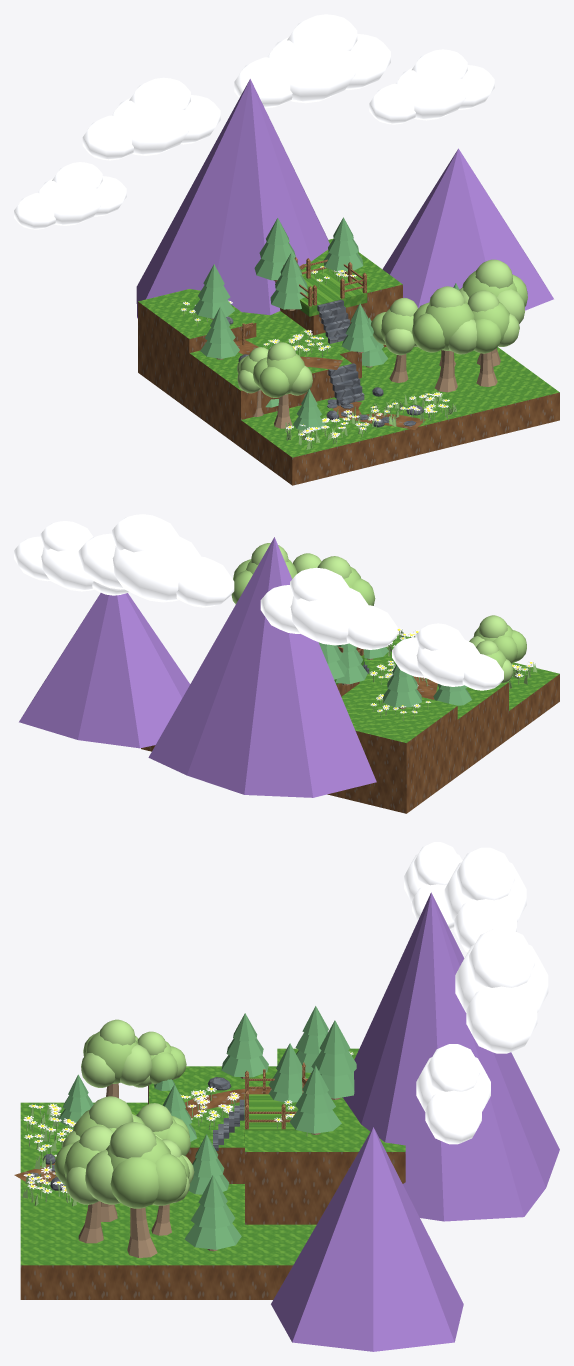
The model's file is map_25d.glb.
3 renders of one model, top to bottom at view 1: azimuth 30°, elevation 25°; view 2: azimuth 150°, elevation 25°; view 3: azimuth 270°, elevation 25°, orthographic. The views are drawn at different scales.
Visible parts, largest first — view 1: SM_Terrain_Chunk, SM_Mountains_Background, SM_Cloud_02, SM_Cloud_01, SM_Cloud_04, SM_Cloud_03, SM_Tree_Deciduous_01, SM_Tree_Deciduous_06, SM_Tree_Deciduous_03, SM_Tree_Deciduous_05, SM_Tree_Deciduous_02, SM_Tier2_Pavers (+13 smaller); view 2: SM_Mountains_Background, SM_Terrain_Chunk, SM_Cloud_02, SM_Cloud_01, SM_Cloud_03, SM_Cloud_04, SM_Tree_Deciduous_06, SM_Tree_Pine_04, SM_Tree_Deciduous_05, SM_Tree_Deciduous_01, SM_Tree_Pine_05, SM_Tree_Pine_03 (+3 smaller); view 3: SM_Mountains_Background, SM_Terrain_Chunk, SM_Cloud_02, SM_Tree_Deciduous_05, SM_Cloud_01, SM_Cloud_04, SM_Tree_Deciduous_06, SM_Tree_Deciduous_03, SM_Cloud_03, SM_Tree_Pine_10, SM_Tree_Pine_06, SM_Tree_Pine_07 (+14 smaller).
Part boxes in pixels (box(x1,y1,x2,y2)): SM_Terrain_Chunk: box(138, 239, 559, 485); SM_Mountains_Background: box(136, 79, 553, 318); SM_Cloud_02: box(234, 14, 390, 108); SM_Cloud_01: box(82, 77, 220, 160); SM_Cloud_04: box(369, 49, 494, 124); SM_Cloud_03: box(14, 162, 126, 229); SM_Tree_Deciduous_01: box(411, 286, 476, 392); SM_Tree_Deciduous_06: box(253, 342, 312, 428); SM_Tree_Deciduous_03: box(467, 290, 519, 386); SM_Tree_Deciduous_05: box(459, 259, 527, 366); SM_Tree_Deciduous_02: box(371, 297, 417, 382); SM_Tier2_Pavers: box(300, 271, 367, 316); SM_Mountains_Background: box(19, 537, 376, 797); SM_Terrain_Chunk: box(141, 634, 559, 813); SM_Cloud_02: box(78, 514, 234, 607); SM_Cloud_01: box(260, 567, 397, 649); SM_Cloud_03: box(392, 623, 503, 690); SM_Cloud_04: box(14, 521, 128, 595); SM_Tree_Deciduous_06: box(469, 615, 526, 663); SM_Tree_Pine_04: box(383, 664, 421, 708); SM_Tree_Deciduous_05: box(231, 543, 297, 604); SM_Tree_Deciduous_01: box(317, 556, 375, 605); SM_Tree_Pine_05: box(335, 643, 367, 685); SM_Tree_Pine_03: box(433, 684, 471, 705); SM_Mountains_Background: box(271, 892, 559, 1351); SM_Terrain_Chunk: box(20, 1048, 405, 1299); SM_Cloud_02: box(455, 928, 548, 1053); SM_Tree_Deciduous_05: box(85, 1122, 186, 1257); SM_Cloud_01: box(444, 847, 526, 952); SM_Cloud_04: box(416, 1044, 490, 1144); SM_Tree_Deciduous_06: box(81, 1019, 152, 1098); SM_Tree_Deciduous_03: box(54, 1125, 113, 1243); SM_Cloud_03: box(404, 842, 462, 928); SM_Tree_Pine_10: box(184, 1175, 241, 1251); SM_Tree_Pine_06: box(311, 1020, 356, 1099); SM_Tree_Pine_07: box(289, 1065, 341, 1134).
Size of the model in its own units: 22.17 by 13.68 by 17.02.
Materials: 15 (6 with a texture image).
